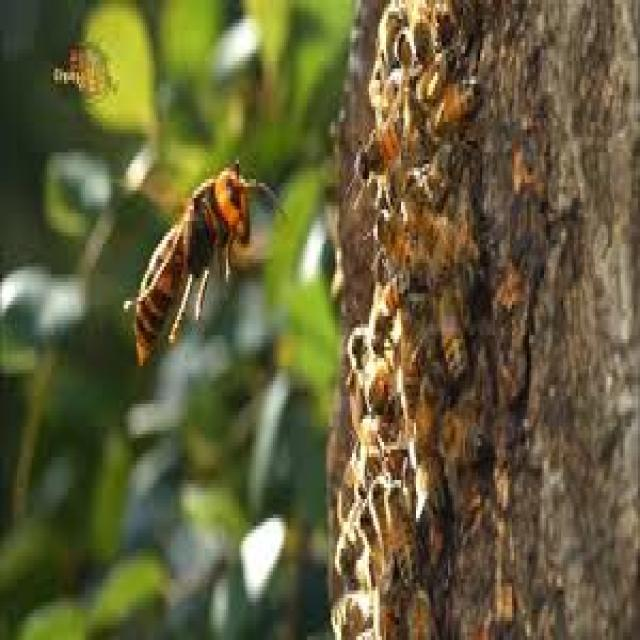Wasp: (114, 156, 288, 361)
